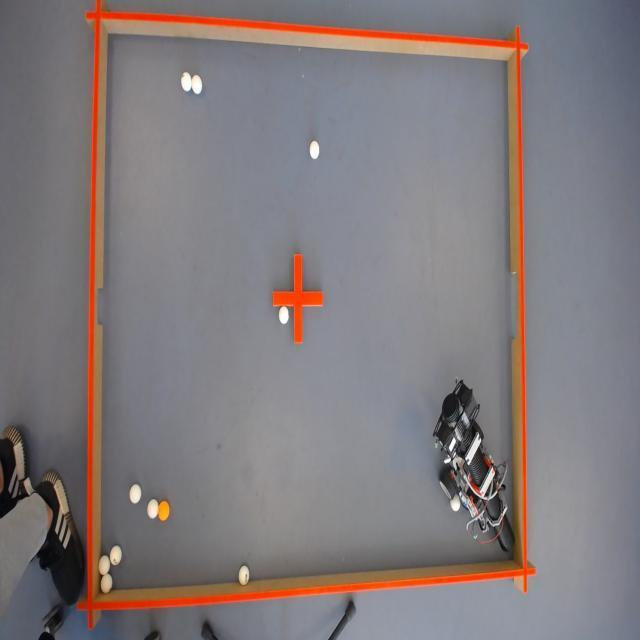orange: (157, 501, 170, 522)
robot: (431, 370, 508, 562)
white: (238, 565, 250, 590), (96, 553, 110, 572), (308, 138, 320, 160), (99, 573, 112, 593), (190, 74, 202, 95), (130, 482, 142, 502), (182, 68, 192, 92), (111, 544, 122, 564), (278, 304, 288, 324), (148, 499, 158, 518)
